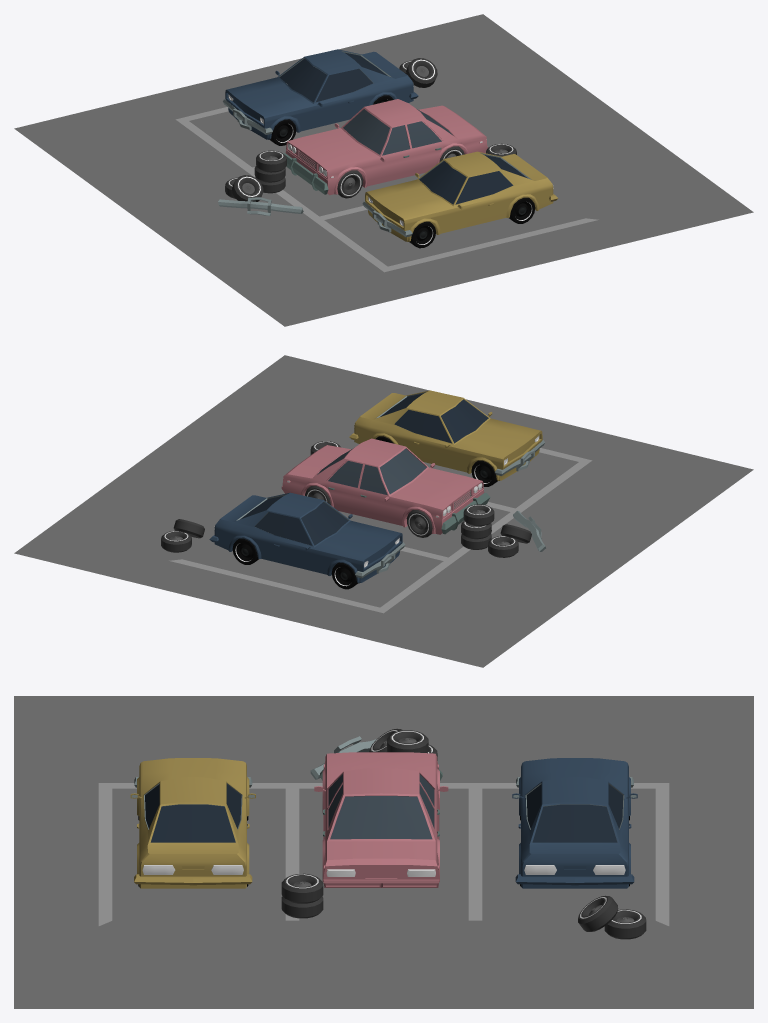
The model's file is carParking.fbx.
The picture shows the model from 3 angles, top to bottom: view 1: azimuth 30°, elevation 25°; view 2: azimuth 150°, elevation 25°; view 3: azimuth 270°, elevation 25°; orthographic projection. The views are drawn at different scales.
Parts seen in each view (by area): view 1: car2FrWhL; view 2: car2FrWhL; view 3: car2FrWhL.
Part boxes in pixels (x1=…): car2FrWhL: x1=14, y1=14, x2=753, y2=326; car2FrWhL: x1=14, y1=355, x2=753, y2=667; car2FrWhL: x1=14, y1=696, x2=753, y2=1008.
Size of the model in its own units: 1163 by 138 by 1163.
